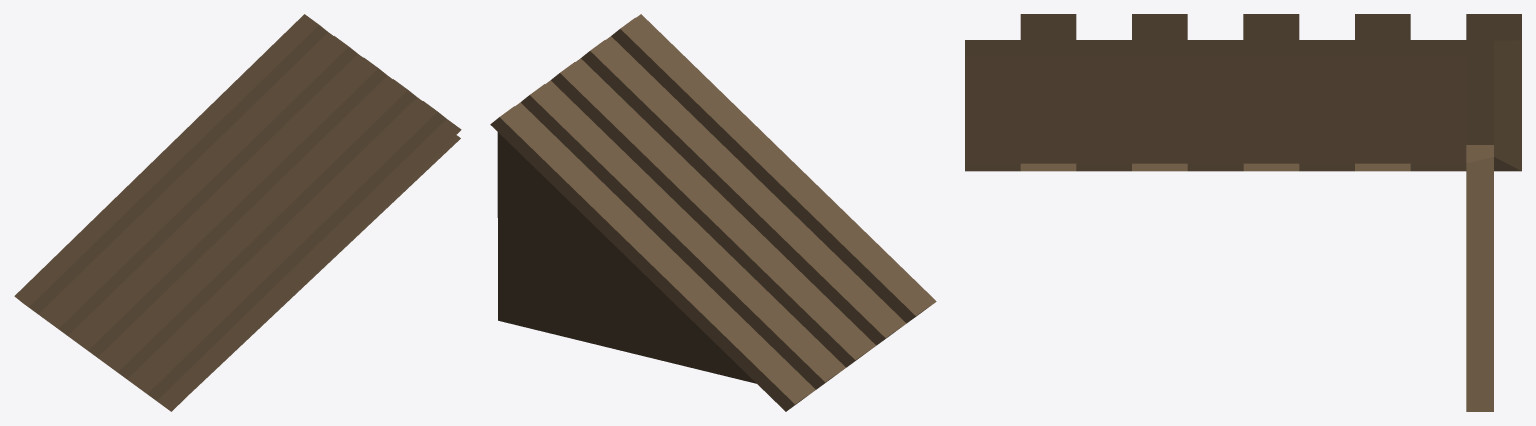
The model's file is Roof_End_2.fbx.
3 renders of one model, left to right at view 1: azimuth 30°, elevation 25°; view 2: azimuth 150°, elevation 25°; view 3: azimuth 270°, elevation 25°, orthographic. The views are drawn at different scales.
Parts seen in each view (by area): view 1: Roof_End_2; view 2: Roof_End_2; view 3: Roof_End_2.
Part boxes in pixels (x1=…): Roof_End_2: x1=14, y1=14, x2=461, y2=411; Roof_End_2: x1=490, y1=14, x2=936, y2=411; Roof_End_2: x1=965, y1=14, x2=1521, y2=411.
Size of the model in its own units: 1.17 by 0.8228 by 1.
